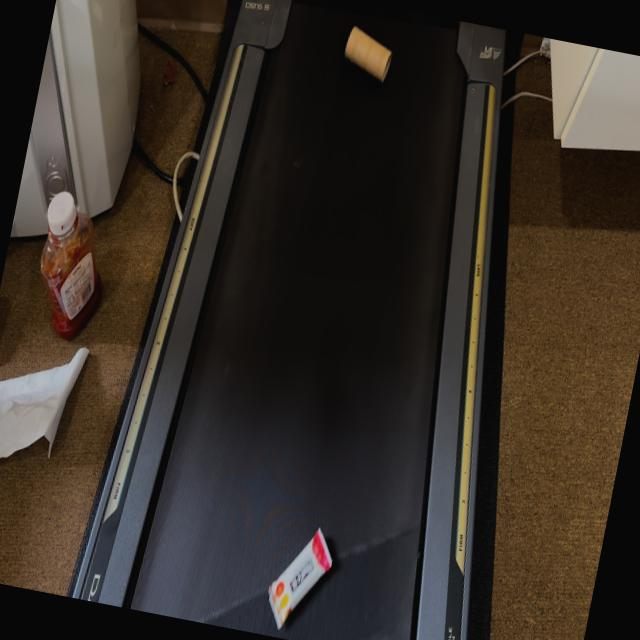Recycle: (329, 11, 420, 94)
Trash: (245, 516, 376, 638)
